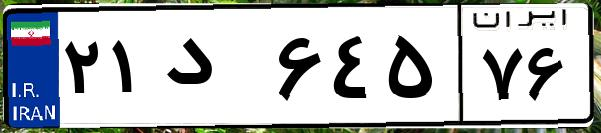1: (110, 28, 158, 98)
2: (57, 26, 110, 100)
4: (330, 28, 385, 110)
5: (385, 28, 445, 110)
6: (270, 28, 330, 110), (525, 38, 570, 115)
7: (475, 38, 525, 113)
د: (158, 20, 270, 120)
